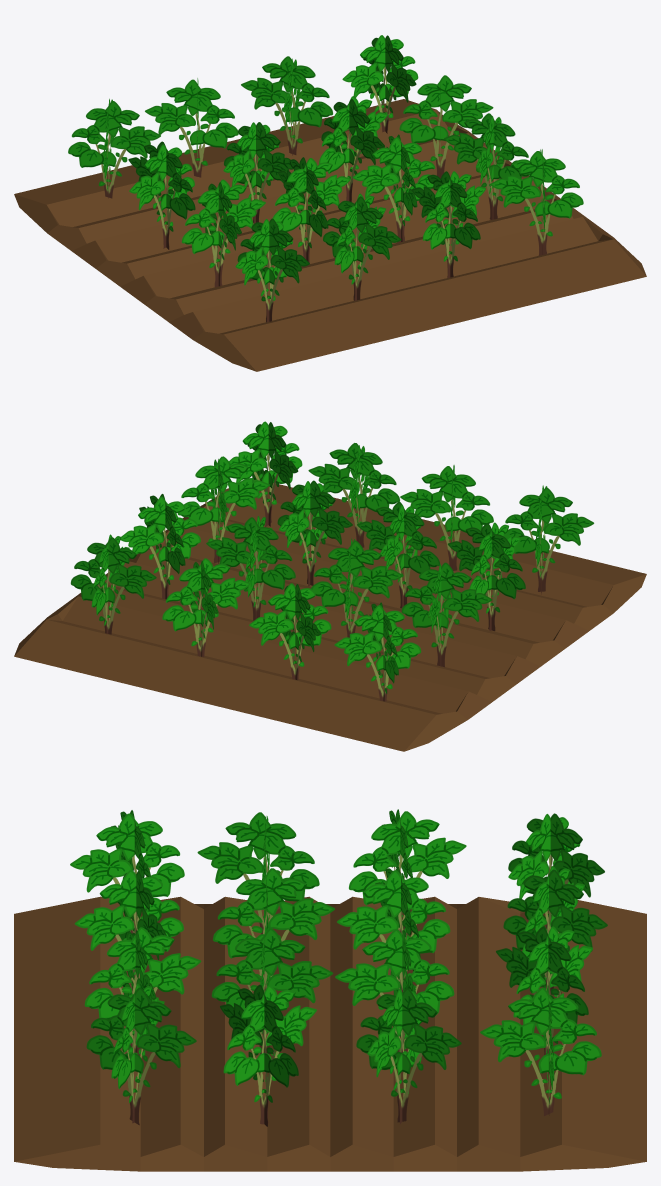
The model's file is potato-stage2-w-Dirt.glb.
3 views of the same model, one above another, from view 1: azimuth 30°, elevation 25°; view 2: azimuth 150°, elevation 25°; view 3: azimuth 270°, elevation 25° (orthographic). The views are drawn at different scales.
Parts seen in each view (by area): view 1: Soil.007, Potatoe_F2; view 2: Soil.007, Potatoe_F2; view 3: Soil.007, Potatoe_F2.
Part boxes in pixels (box(x1,y1,x2,y2)): Soil.007: box(14, 99, 646, 371); Potatoe_F2: box(68, 35, 583, 322); Soil.007: box(14, 483, 646, 751); Potatoe_F2: box(70, 421, 594, 701); Soil.007: box(14, 896, 646, 1171); Potatoe_F2: box(70, 809, 607, 1126).
Size of the model in its own units: 2.5 by 0.6033 by 2.5.
2 materials, 1 textured.
